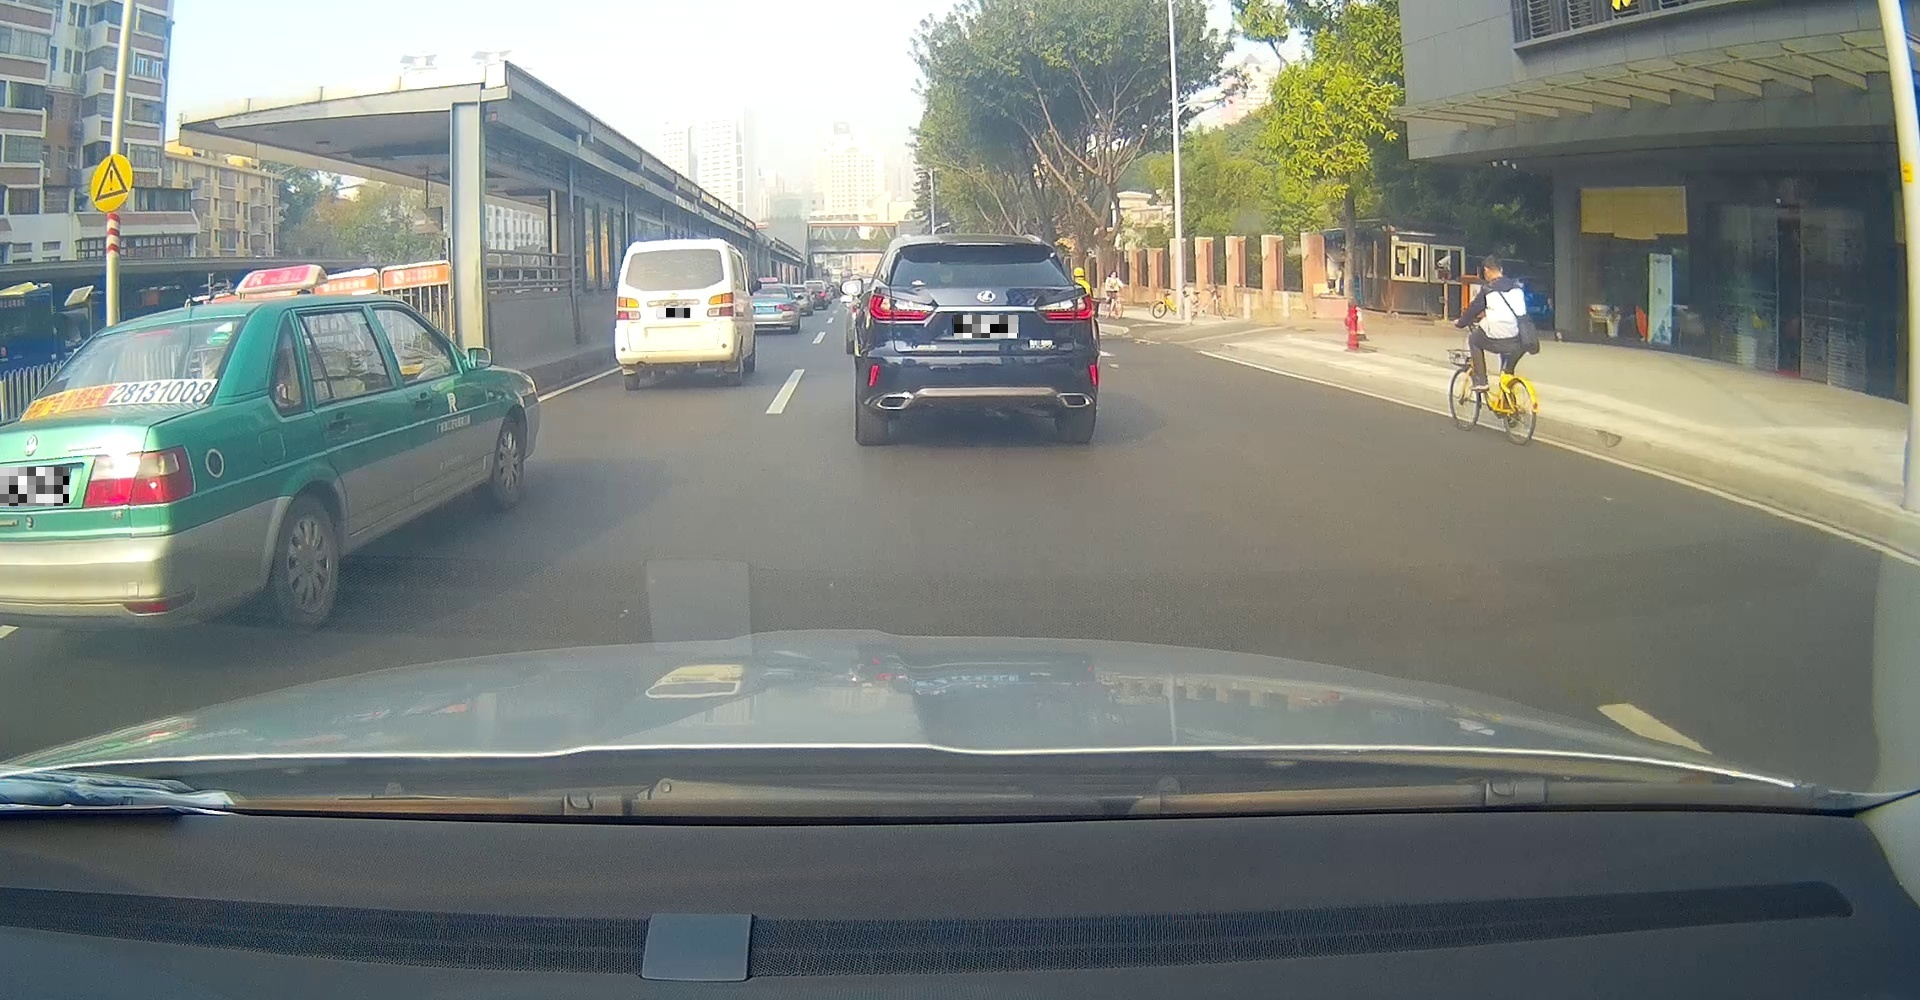L_light: (869, 293, 935, 322), (617, 296, 640, 320)
R_light: (1039, 293, 1092, 319), (707, 292, 734, 317)
T_light: (664, 251, 684, 255), (968, 246, 997, 249)
day-no: (858, 239, 1098, 445), (615, 239, 734, 388)
plate_1: (0, 467, 69, 506)
plate_2: (657, 308, 690, 319)
plate_3: (954, 315, 1018, 338)
